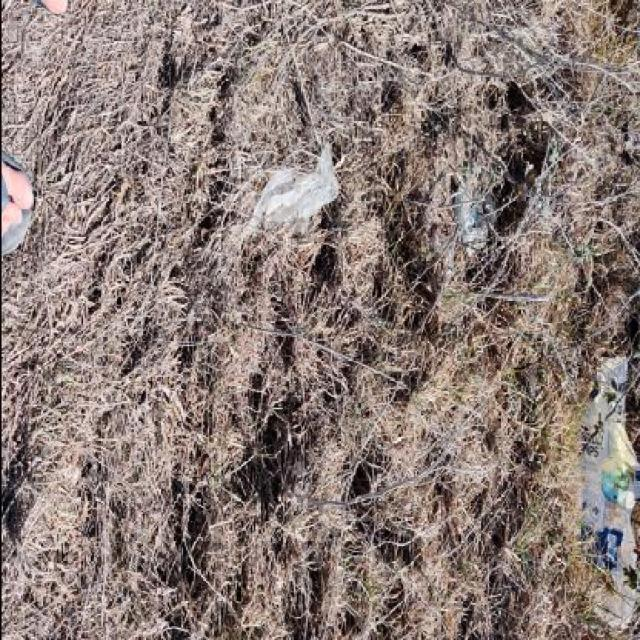plastic: (574, 356, 638, 630), (243, 140, 339, 240)
